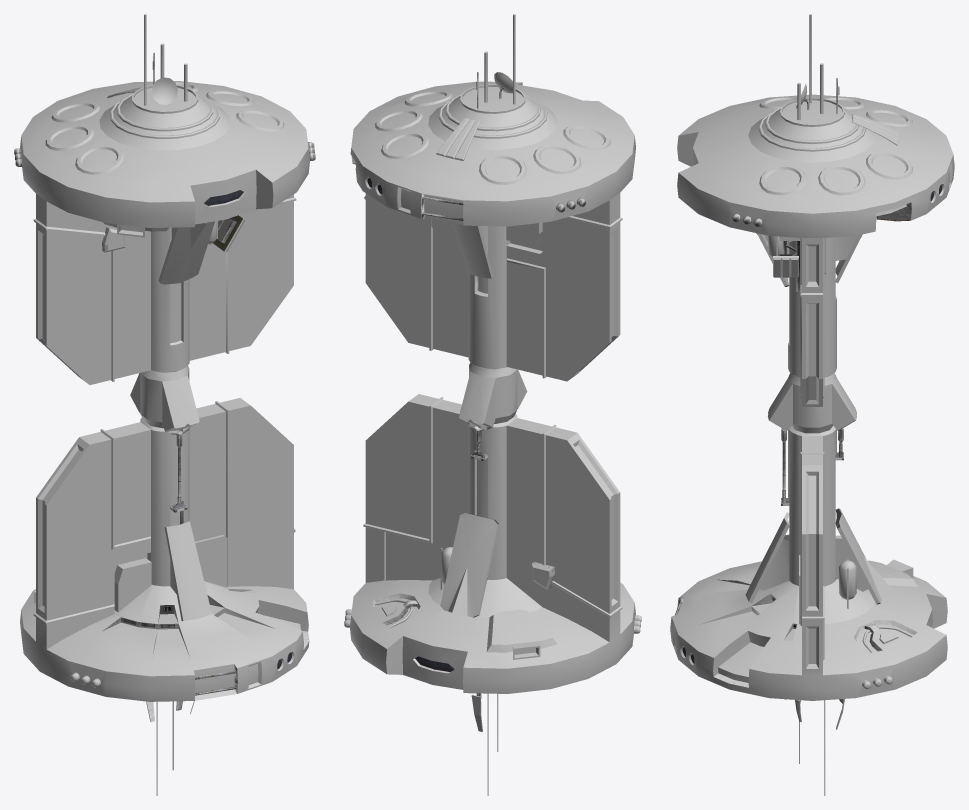
Rendered from spacestation_outpost_corsec_l0.fbx.
3 views of the same model, side by side, from view 1: azimuth 30°, elevation 25°; view 2: azimuth 150°, elevation 25°; view 3: azimuth 270°, elevation 25° (orthographic). The views are drawn at different scales.
Parts seen in each view (by area): view 1: mesh_node; view 2: mesh_node; view 3: mesh_node.
Part boxes in pixels (bbox=[...]): mesh_node: bbox=[14, 14, 315, 795]; mesh_node: bbox=[344, 14, 641, 795]; mesh_node: bbox=[670, 14, 954, 795].
Bounding box in the file's own units: 102 × 304 × 102.
